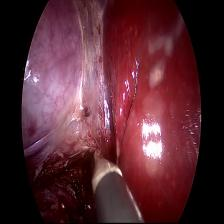Hook: (89, 138, 126, 196)
